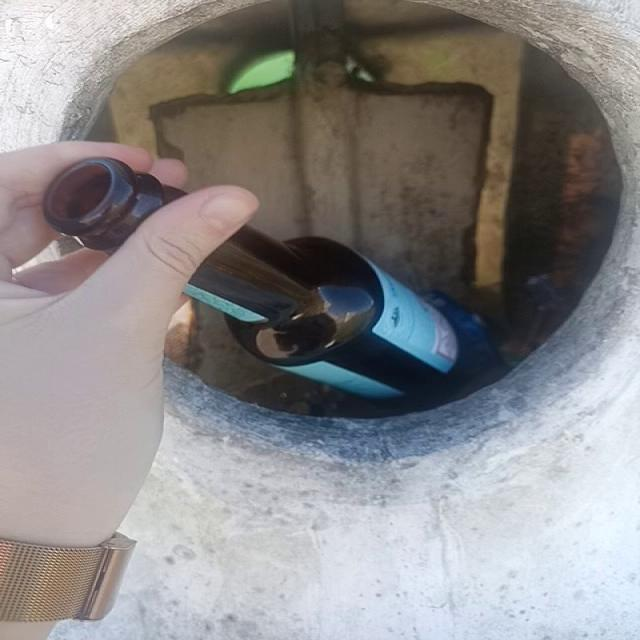glass: (185, 227, 500, 398), (44, 158, 181, 250)
